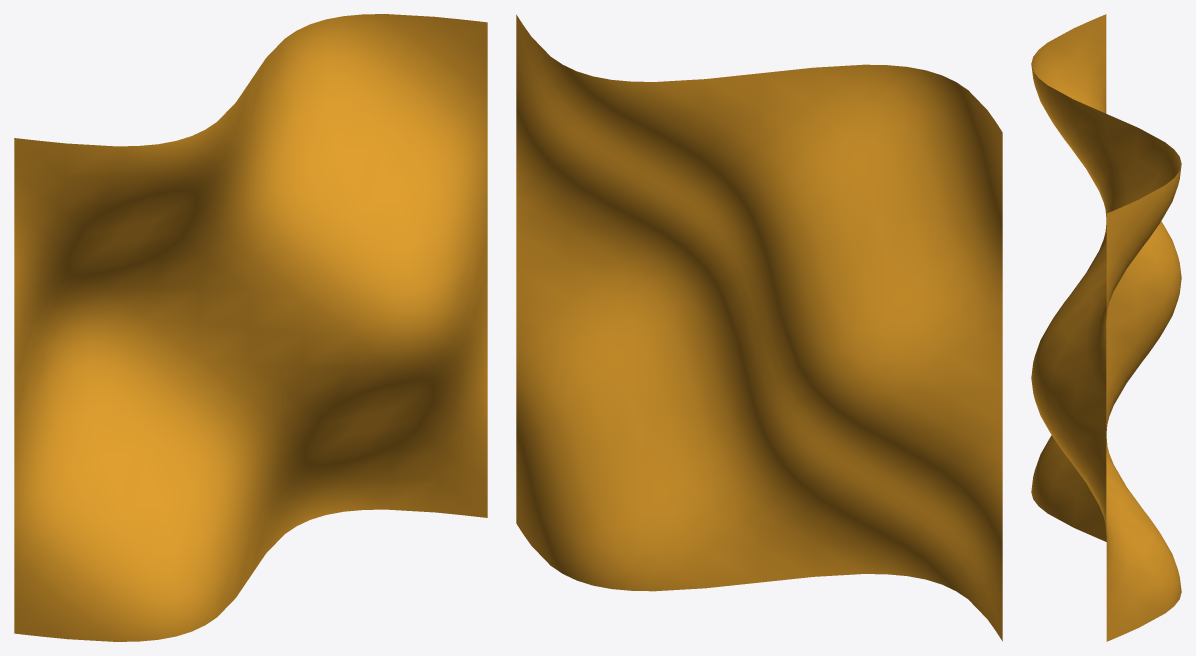
File: sine_wave.obj
3 views of the same model, side by side, from view 1: azimuth 30°, elevation 25°; view 2: azimuth 150°, elevation 25°; view 3: azimuth 270°, elevation 25° (orthographic). The views are drawn at different scales.
Bounding box in the file's own units: 6.28 × 6.28 × 2.
